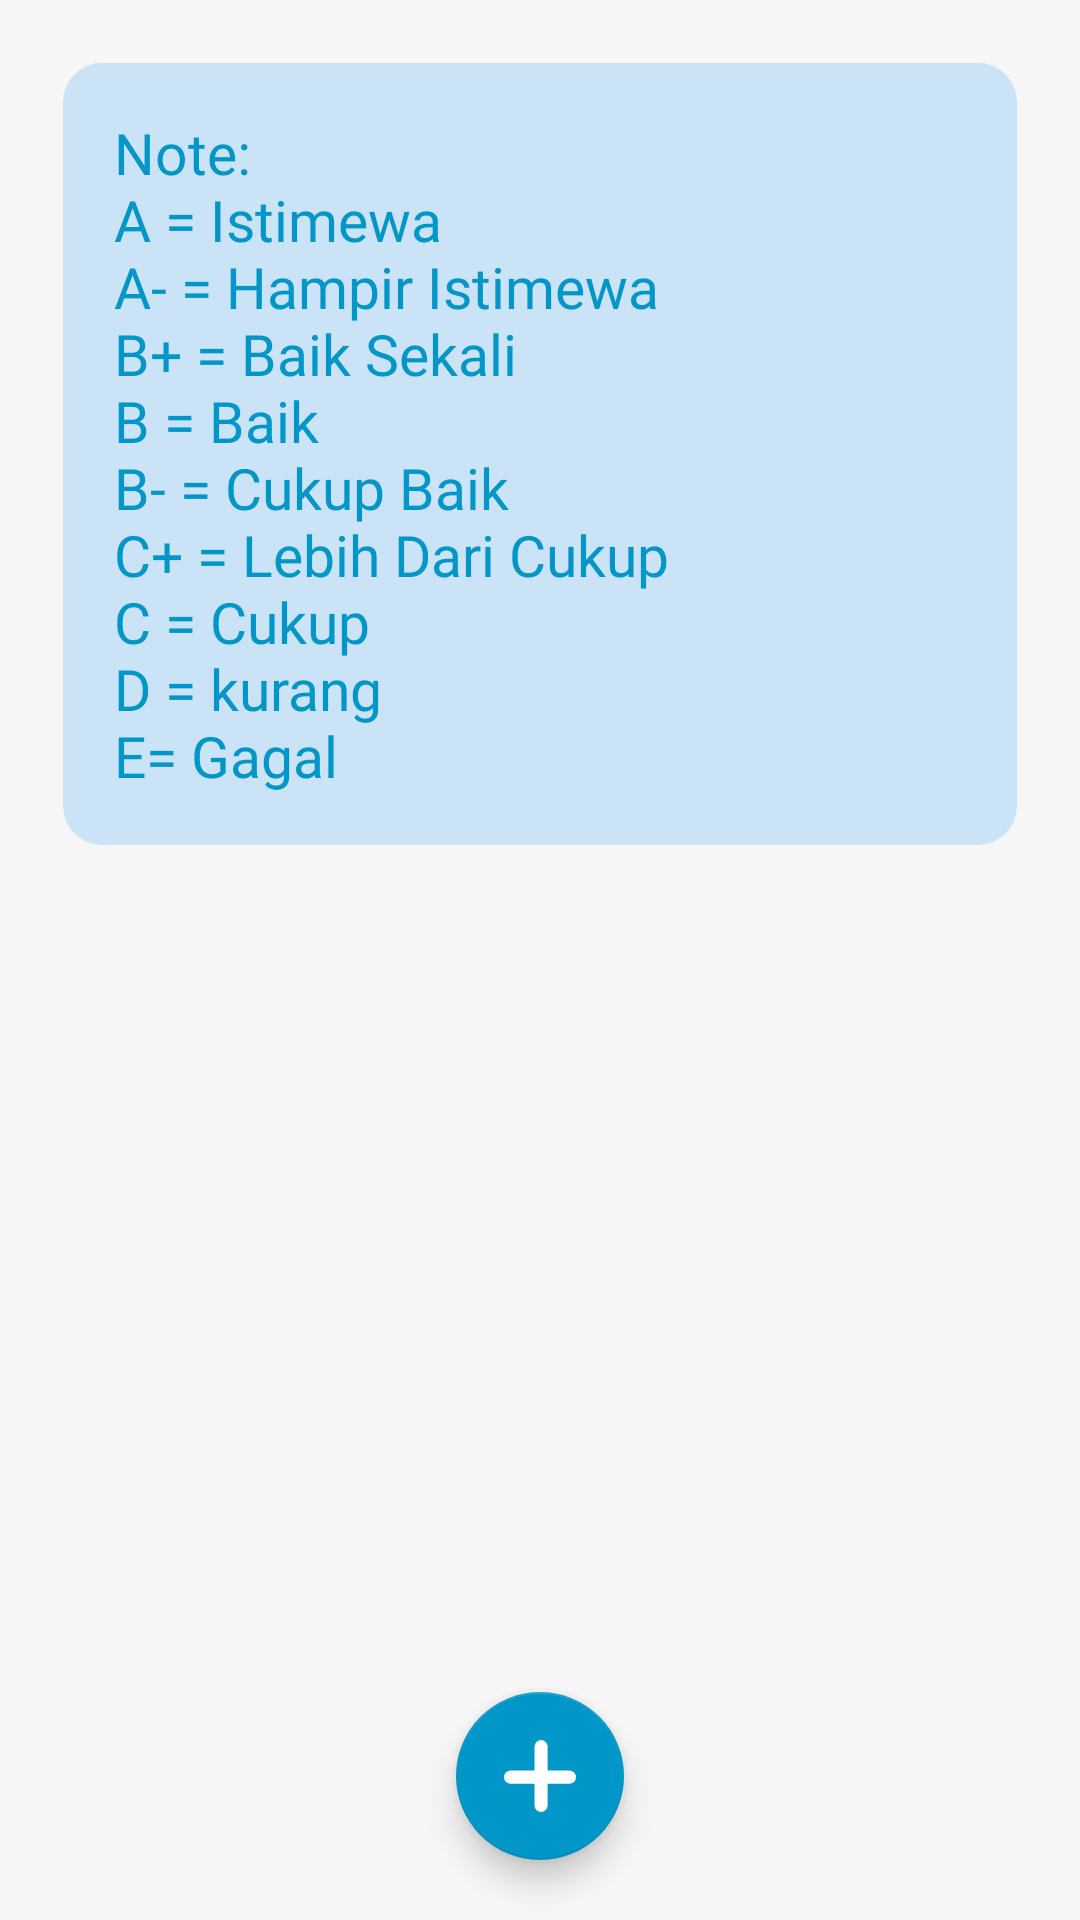

Screen size 1080x1920. Icon name, then its box in pixels as (x1, y1, x2, y2):
add Button: (456, 1692, 624, 1860)
